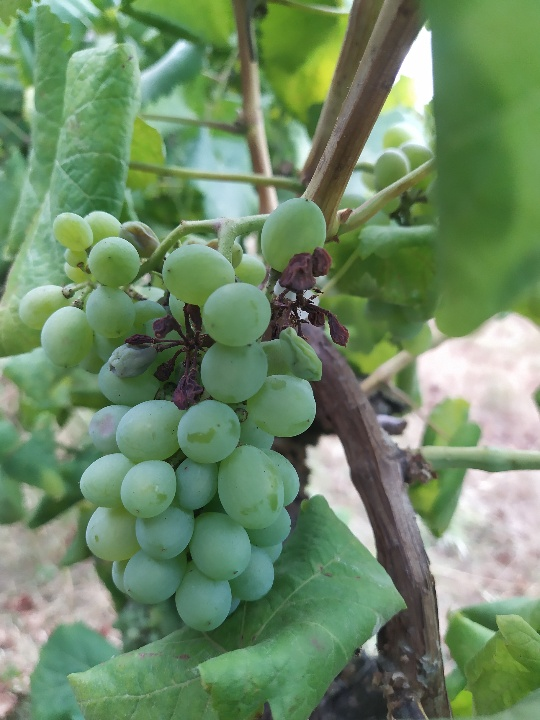grape: (15, 194, 353, 634)
